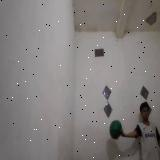Helmet: (108, 118, 122, 144)
